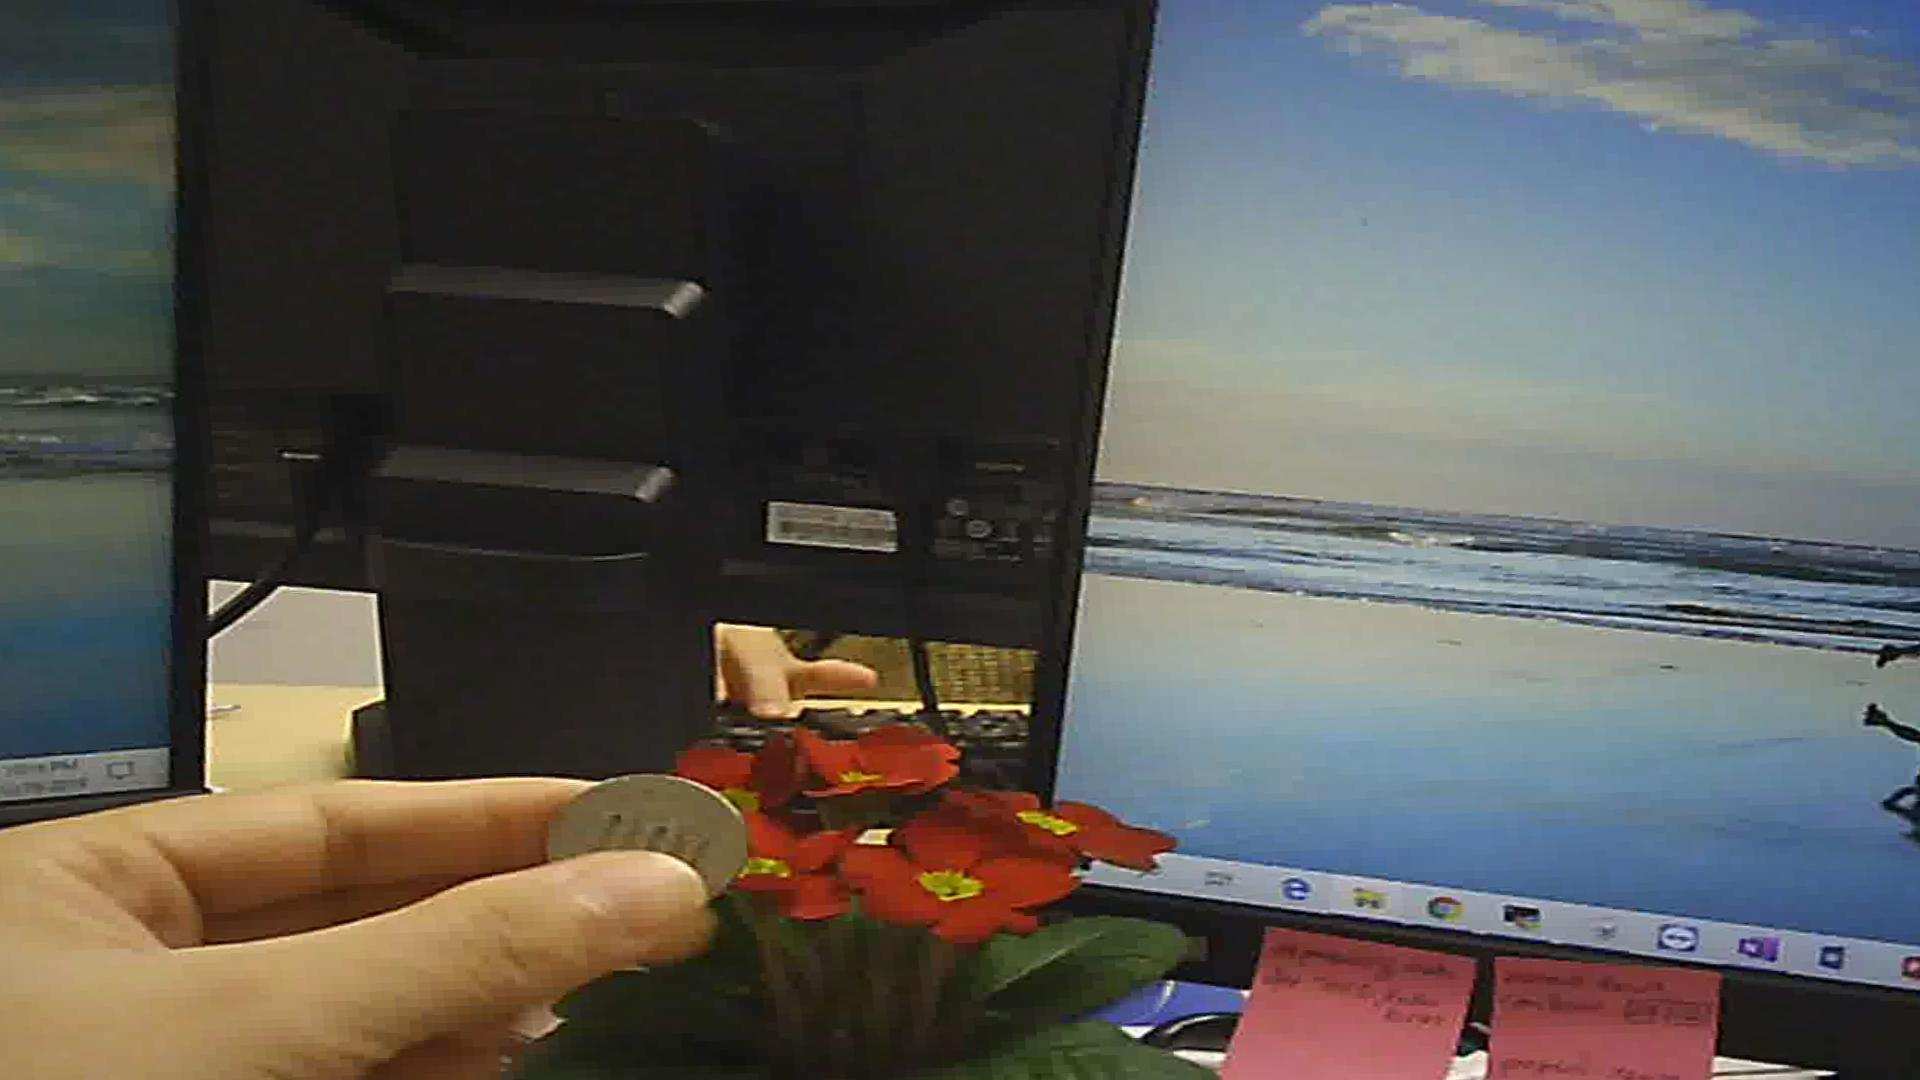100 Yen: (543, 771, 750, 934)
